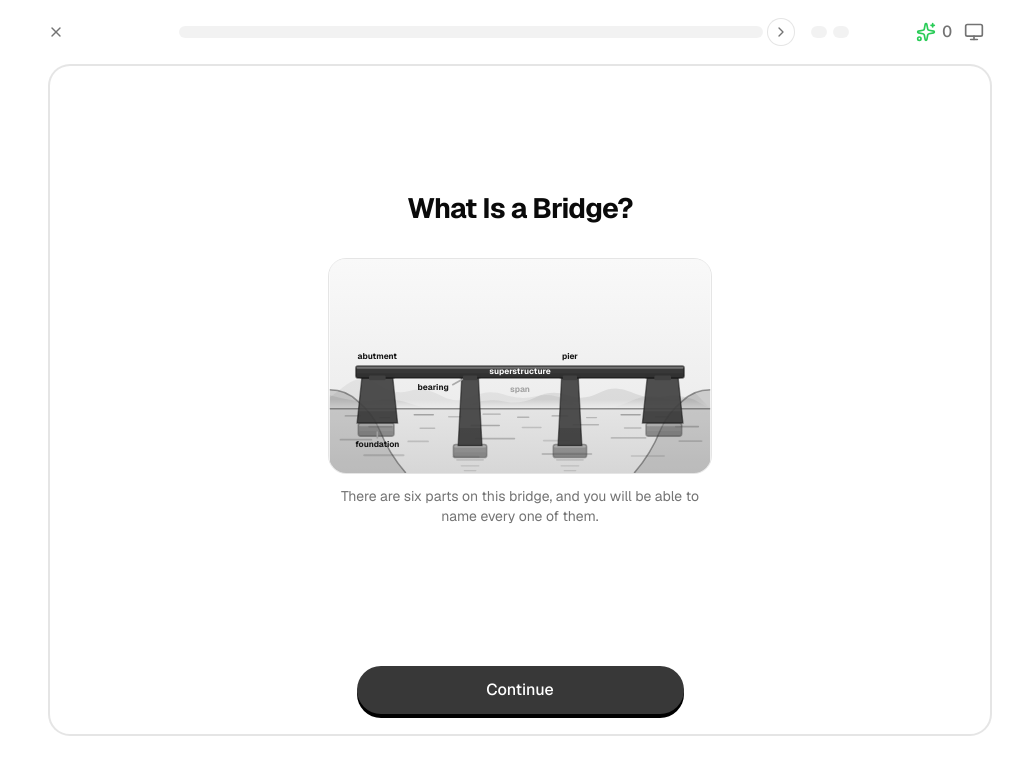
Test case: Bridge Engineering, in the lesson player › answers a multiple choice question and turns the card green
Click the button "Continue" at (520, 690), box x1=356 y1=666 x2=684 y2=714
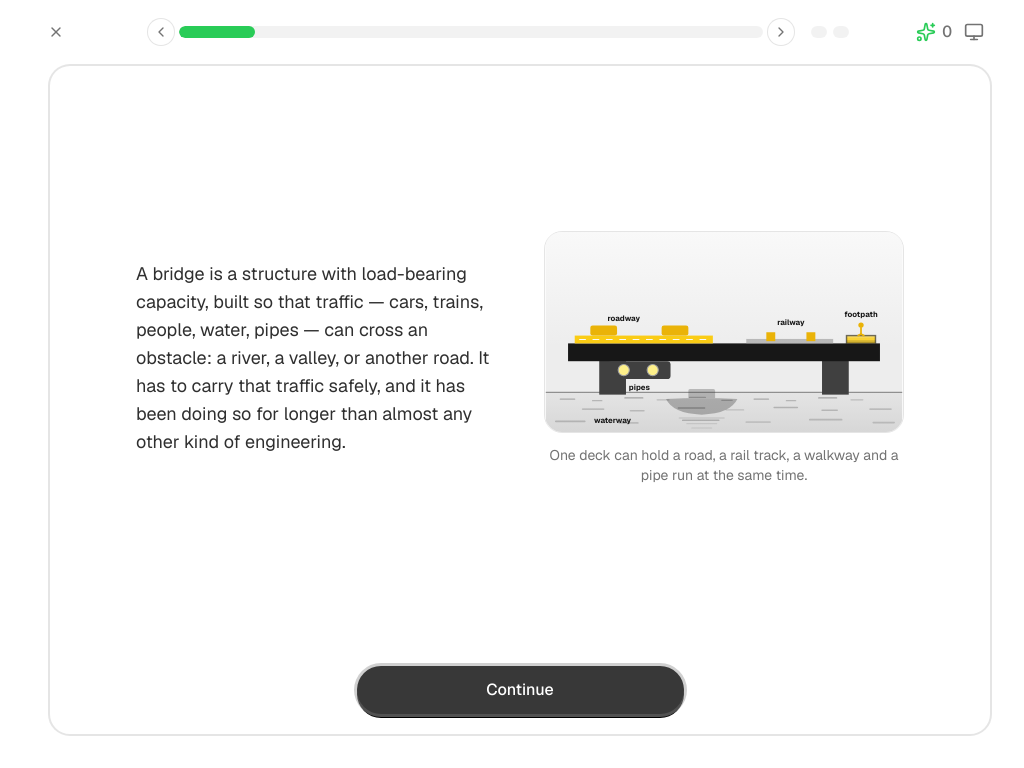
Click the button "Continue" at (520, 690), box x1=356 y1=666 x2=684 y2=714
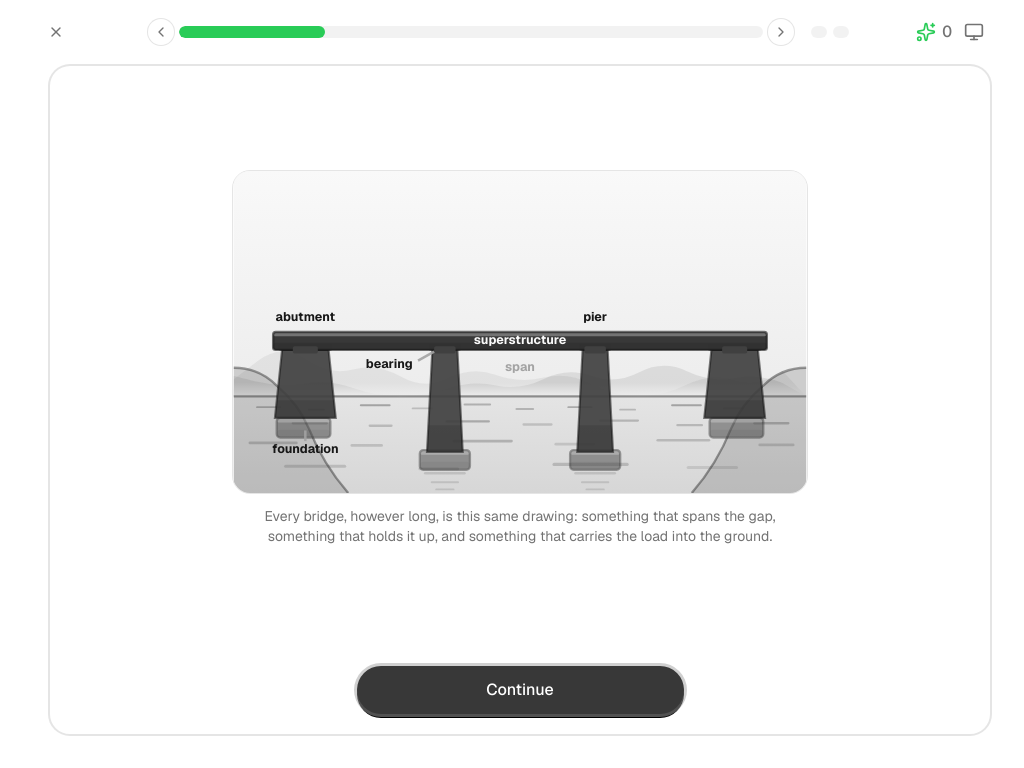
Click the button "Continue" at (520, 690), box x1=356 y1=666 x2=684 y2=714
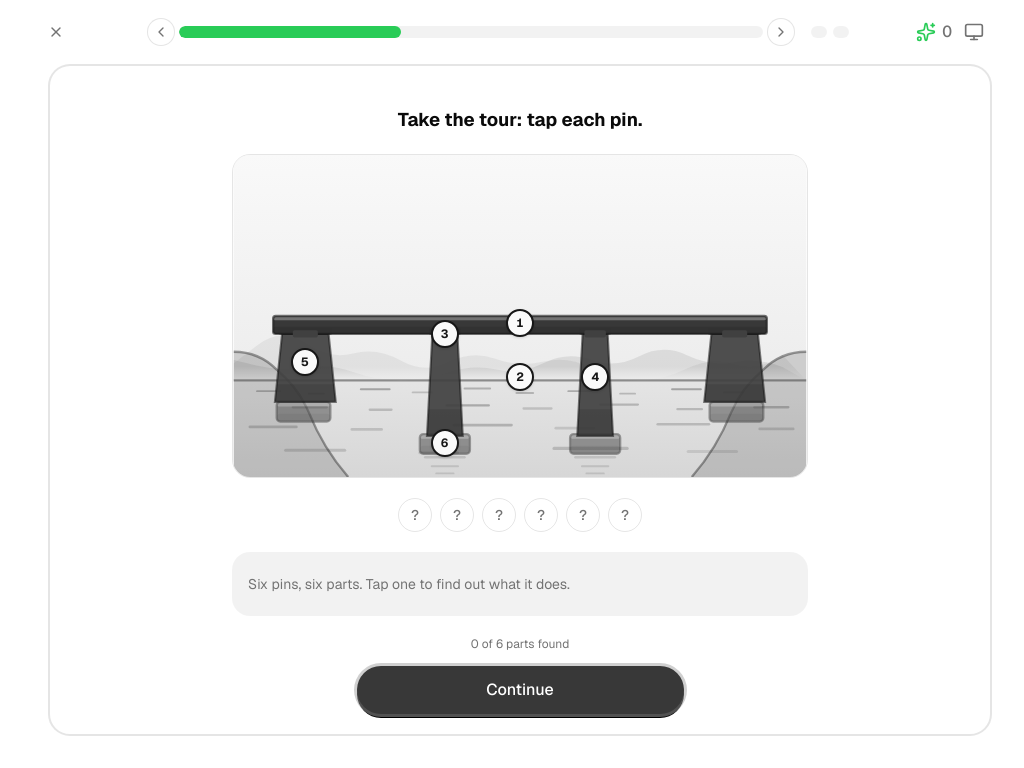
Click the button "Continue" at (520, 690), box x1=356 y1=666 x2=684 y2=714
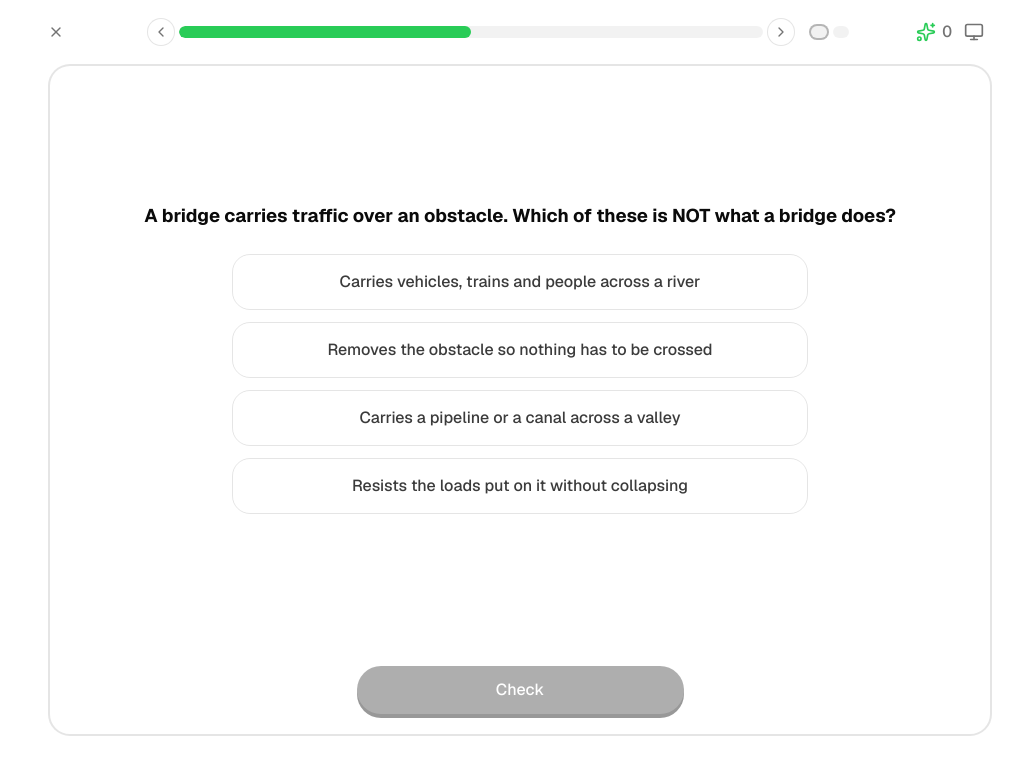
Now the text "NOT what a bridge does" is shown, box x1=144 y1=203 x2=896 y2=227
Click the button "Removes the obstacle so nothing has to be crossed" at (520, 350), box x1=232 y1=322 x2=808 y2=378
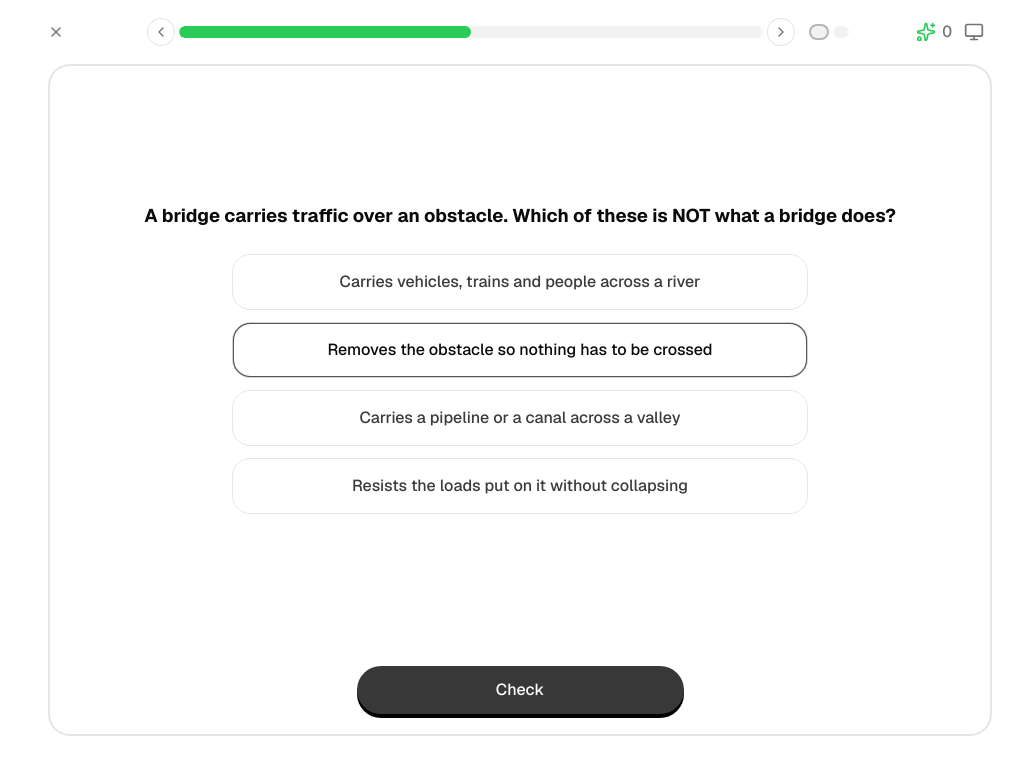
Click the button "Check" at (520, 690), box x1=356 y1=666 x2=684 y2=714
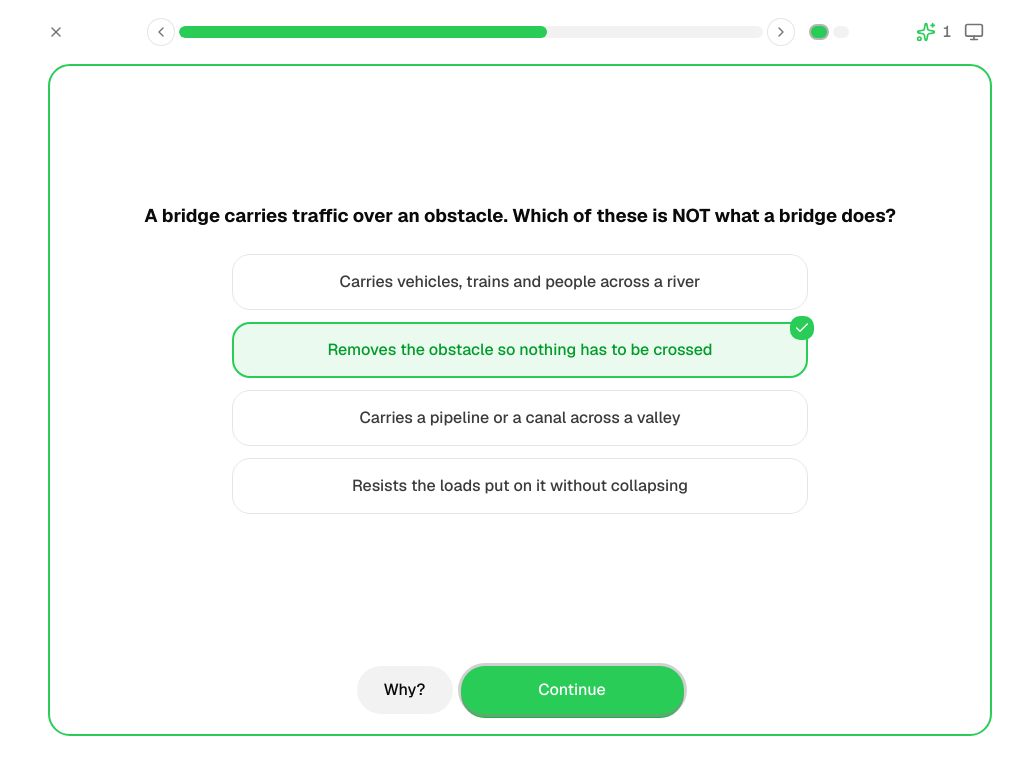
Now the button "Why?" is shown, box x1=356 y1=666 x2=452 y2=714
